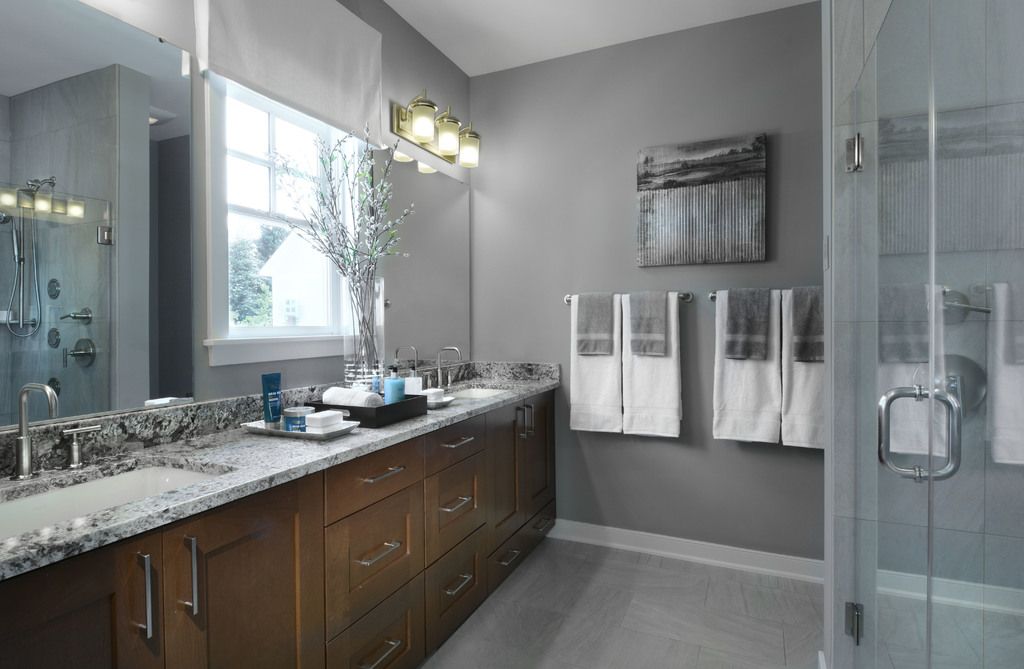tap: (8, 382, 62, 487), (437, 346, 463, 388)
